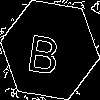B: (25, 25, 63, 75)
